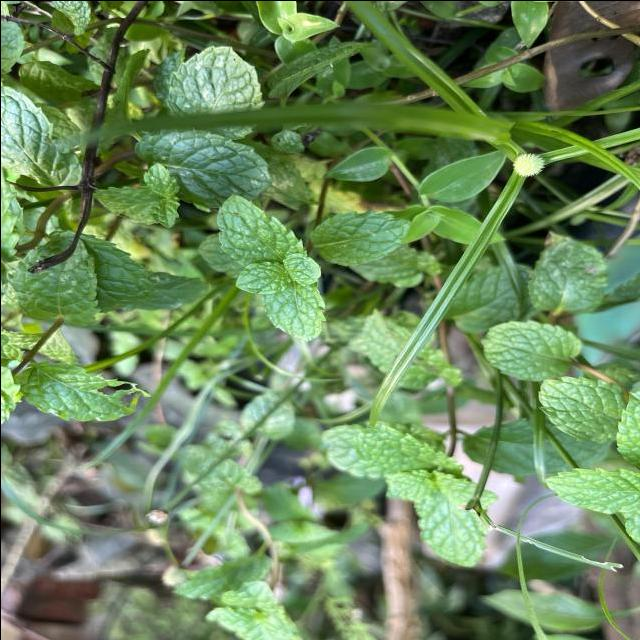Mentha spicata: (478, 318, 582, 380), (216, 192, 304, 265), (308, 208, 411, 266), (536, 374, 623, 442), (260, 281, 327, 341), (234, 260, 289, 294)
